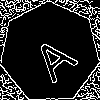A: (24, 27, 79, 84)
